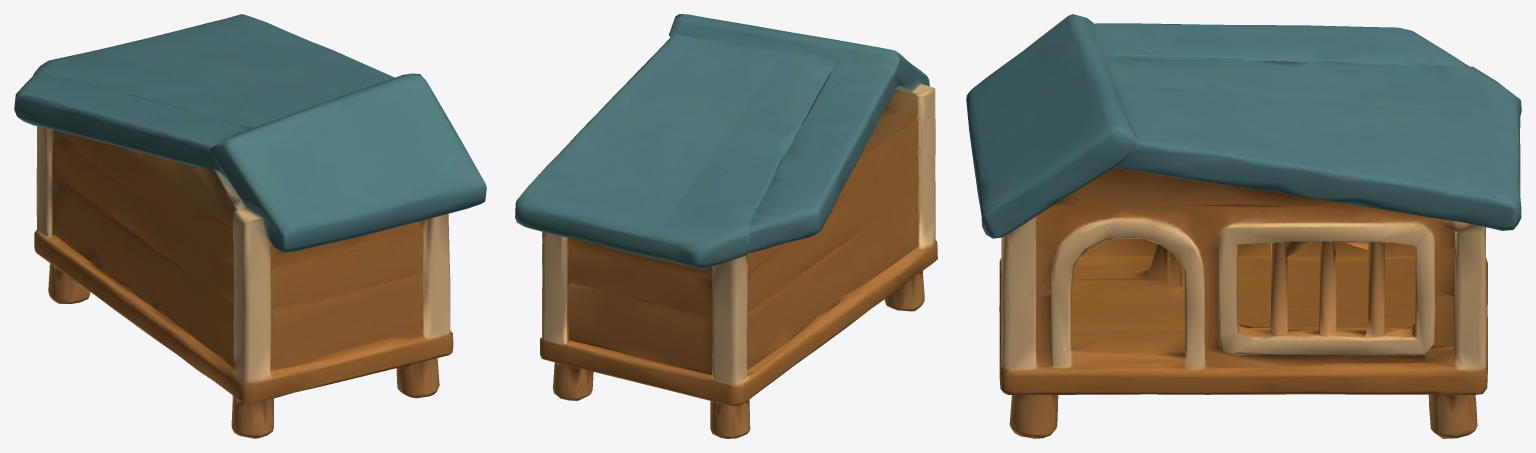
Rendered from hutch.glb.
3 renders of one model, left to right at view 1: azimuth 30°, elevation 25°; view 2: azimuth 150°, elevation 25°; view 3: azimuth 270°, elevation 25°, orthographic. The views are drawn at different scales.
Parts seen in each view (by area): view 1: tripo_node_040b5c01-26d4-4af8-8976-acd8cef69a06; view 2: tripo_node_040b5c01-26d4-4af8-8976-acd8cef69a06; view 3: tripo_node_040b5c01-26d4-4af8-8976-acd8cef69a06.
Part boxes in pixels (x1,y1,x2,y2): tripo_node_040b5c01-26d4-4af8-8976-acd8cef69a06: (14,14,486,438); tripo_node_040b5c01-26d4-4af8-8976-acd8cef69a06: (515,14,937,438); tripo_node_040b5c01-26d4-4af8-8976-acd8cef69a06: (966,14,1521,438).
Bounding box in the file's own units: 0.6807 × 0.6419 × 1.
Materials: 1 (1 with a texture image).
